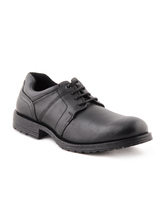shoes: (6, 69, 156, 153)
